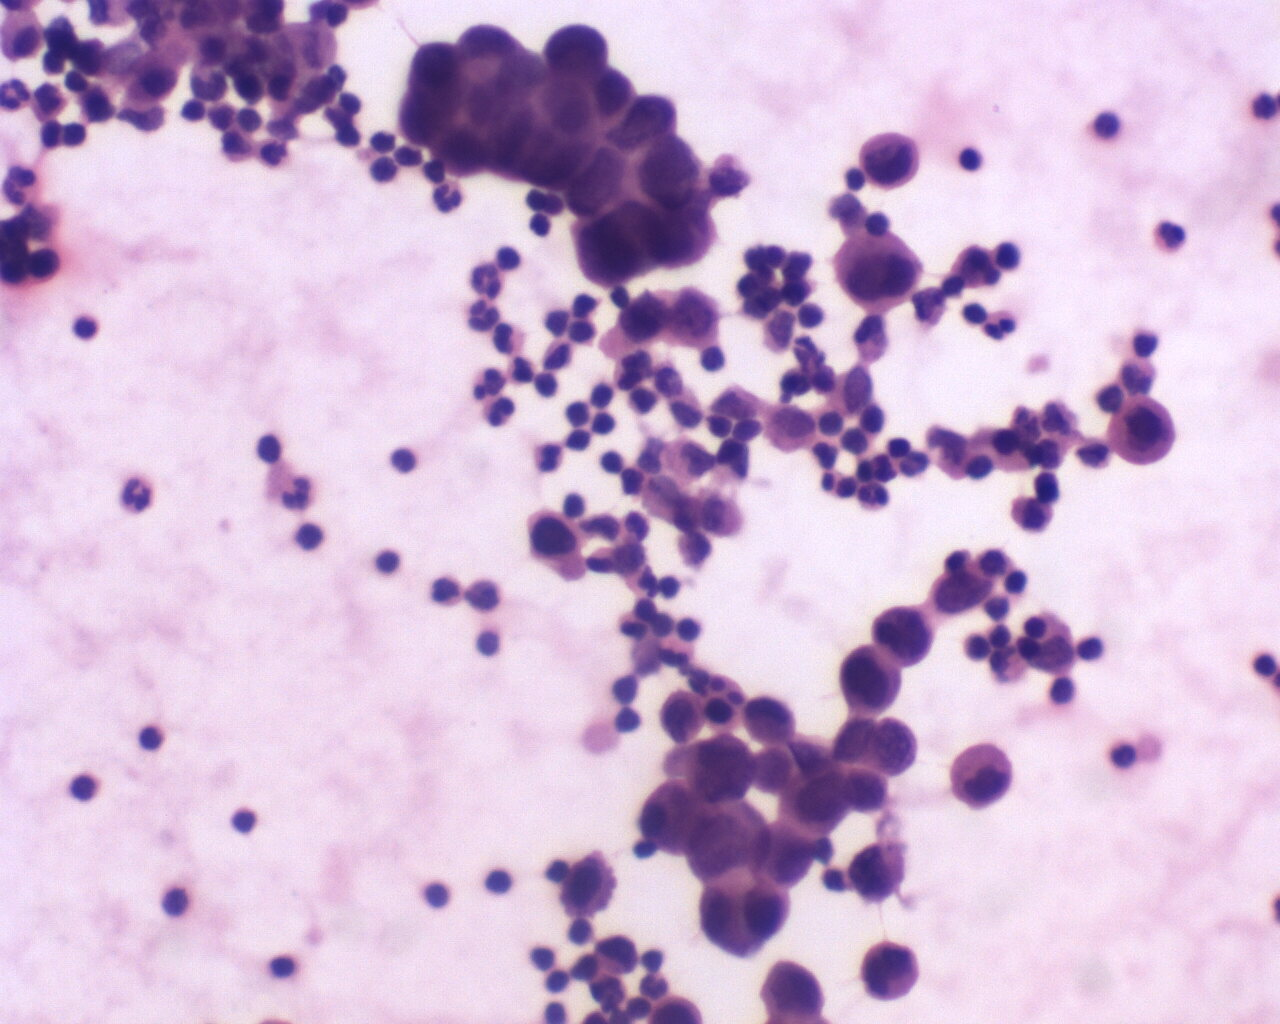ab: (835, 225, 927, 320), (627, 131, 706, 213), (1108, 391, 1182, 472), (518, 508, 592, 587), (681, 732, 761, 806), (537, 18, 614, 86), (831, 643, 904, 713), (858, 126, 928, 200), (604, 86, 678, 155), (779, 768, 855, 836), (554, 850, 624, 920), (844, 836, 911, 908), (761, 957, 831, 1024), (949, 740, 1015, 810), (869, 598, 934, 668), (857, 938, 924, 1004), (927, 564, 995, 622), (865, 714, 920, 779), (656, 688, 709, 744)
lymph: (156, 875, 201, 925), (64, 763, 102, 810), (421, 874, 459, 922), (264, 944, 301, 988), (134, 719, 173, 759), (952, 141, 986, 180), (1106, 737, 1139, 776), (230, 801, 261, 836), (481, 866, 514, 898), (369, 546, 401, 578)
neutro: (1150, 216, 1193, 261), (116, 472, 157, 518), (469, 256, 511, 299), (467, 360, 510, 400), (426, 569, 464, 613), (279, 475, 319, 515), (531, 439, 571, 478), (467, 299, 503, 341), (430, 180, 467, 218)
